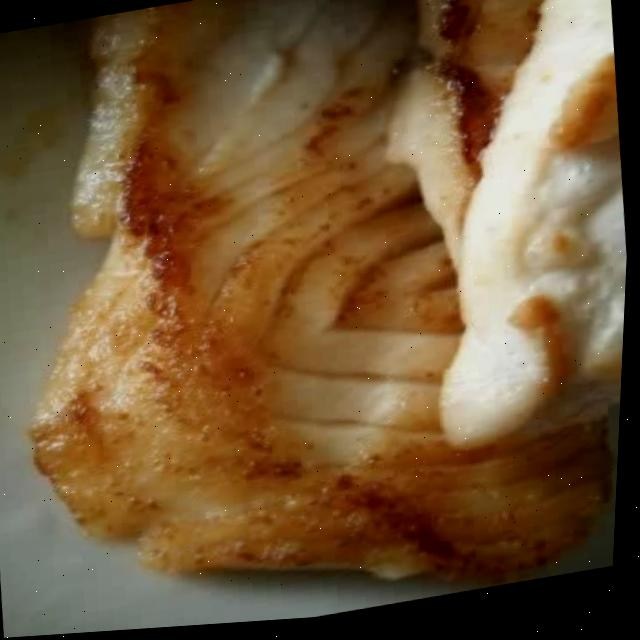熟制海鲜: (0, 0, 640, 629)
